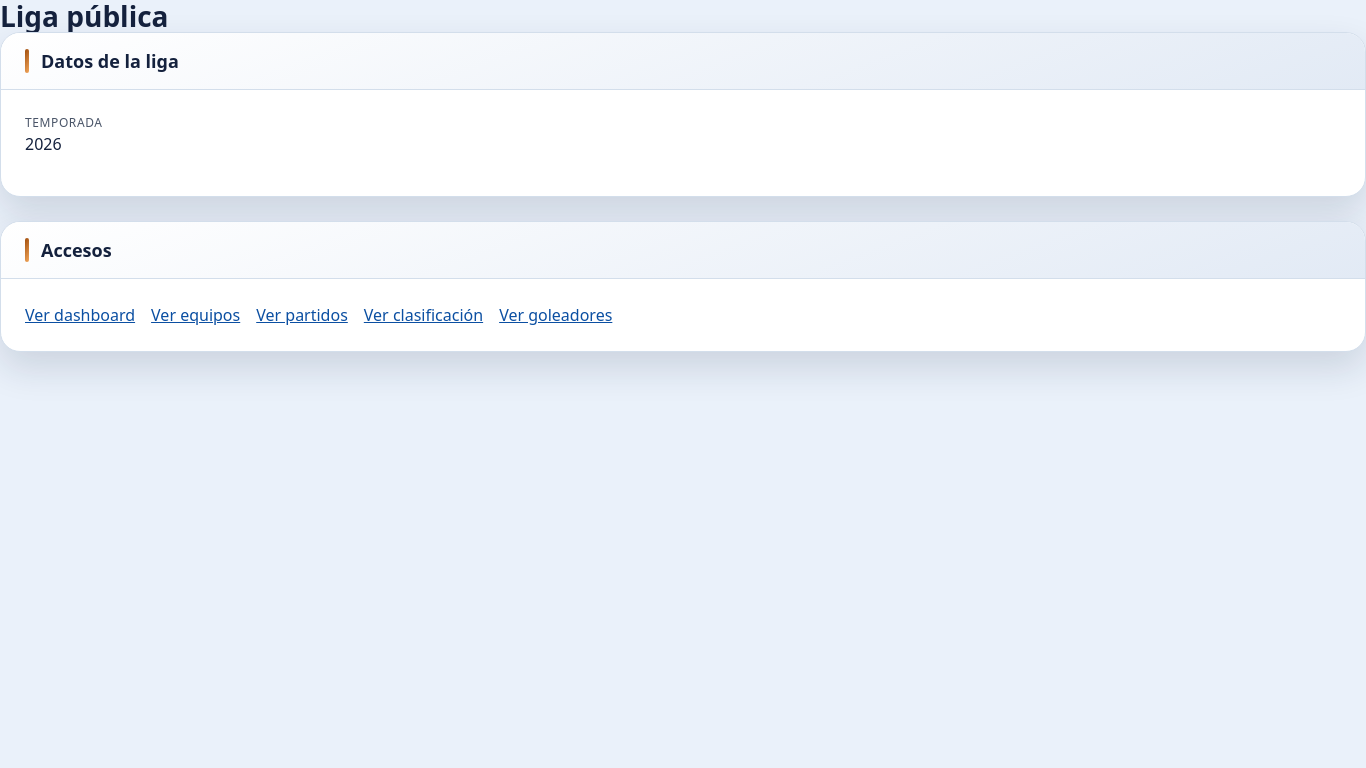
Scenario: dashboard general de la liga › se descubre desde el detalle de la liga en una interacción
Click the link "Ver dashboard" at (80, 315), box [25, 303, 135, 327]
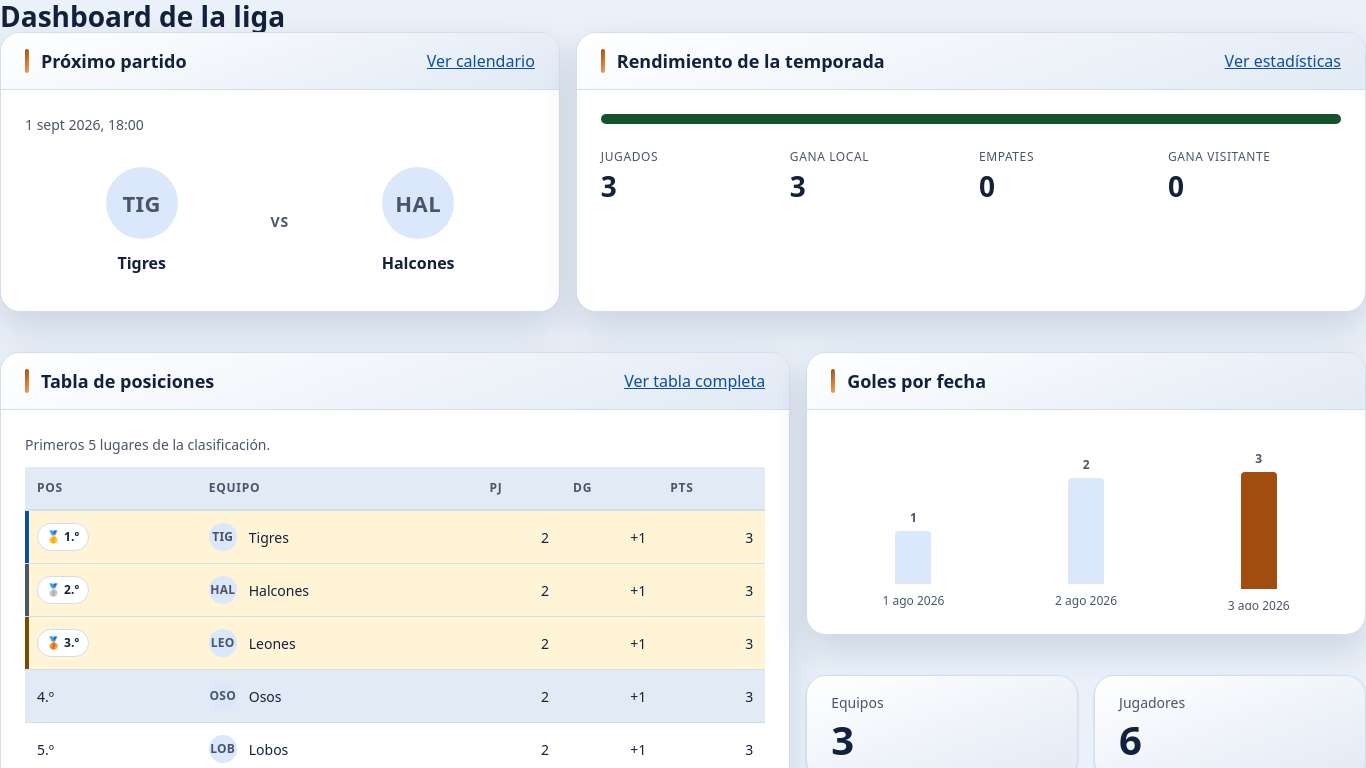
Expected: the heading "Próximo partido" is shown, [25, 49, 187, 73]
